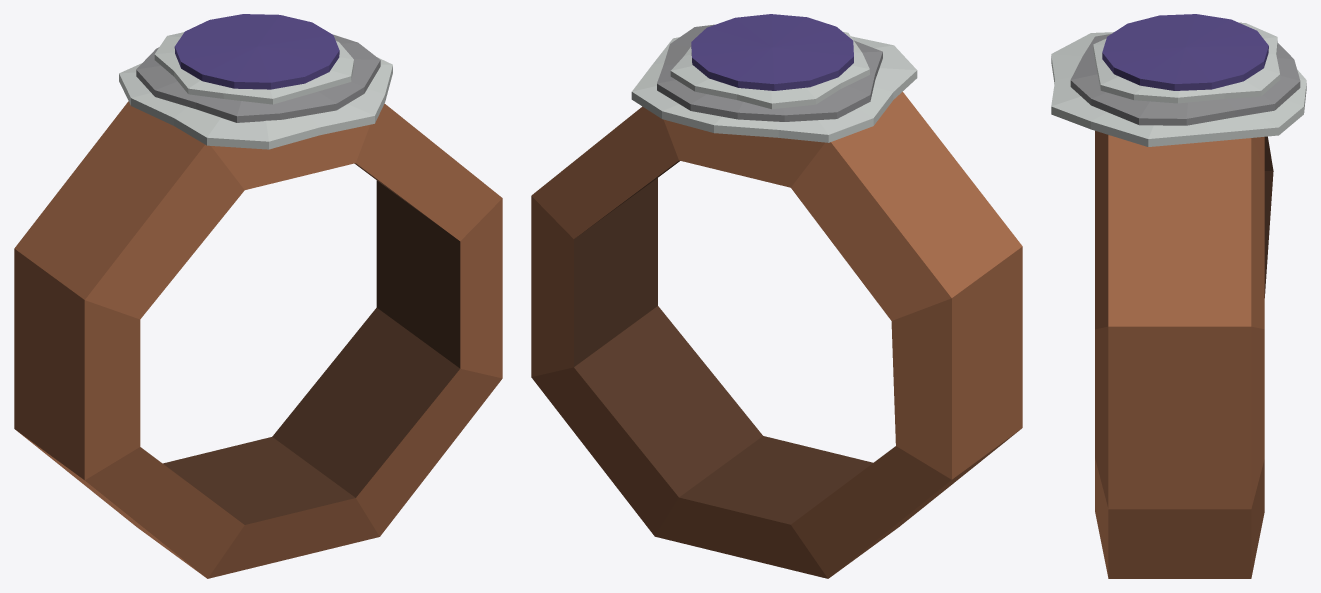
File: Item_Ring_07.fbx
3 renders of one model, left to right at view 1: azimuth 30°, elevation 25°; view 2: azimuth 150°, elevation 25°; view 3: azimuth 270°, elevation 25°, orthographic.
Parts seen in each view (by area): view 1: SM_Item_Ring_07; view 2: SM_Item_Ring_07; view 3: SM_Item_Ring_07.
Boxes of the visible parts, <box> form: SM_Item_Ring_07: <box>14,14,502,578</box>; SM_Item_Ring_07: <box>531,14,1022,578</box>; SM_Item_Ring_07: <box>1051,14,1306,578</box>.
Bounding box in the file's own units: 5.07 × 5.6 × 2.65.
